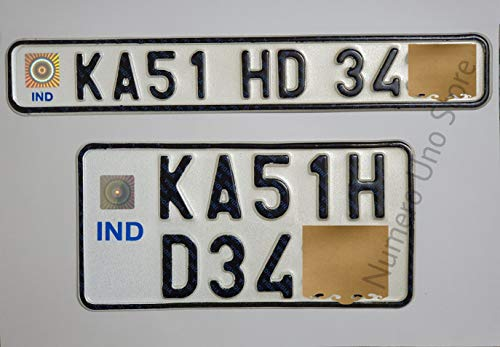doublelinenumberplate: (78, 140, 415, 311)
numberplate: (7, 37, 489, 110)
